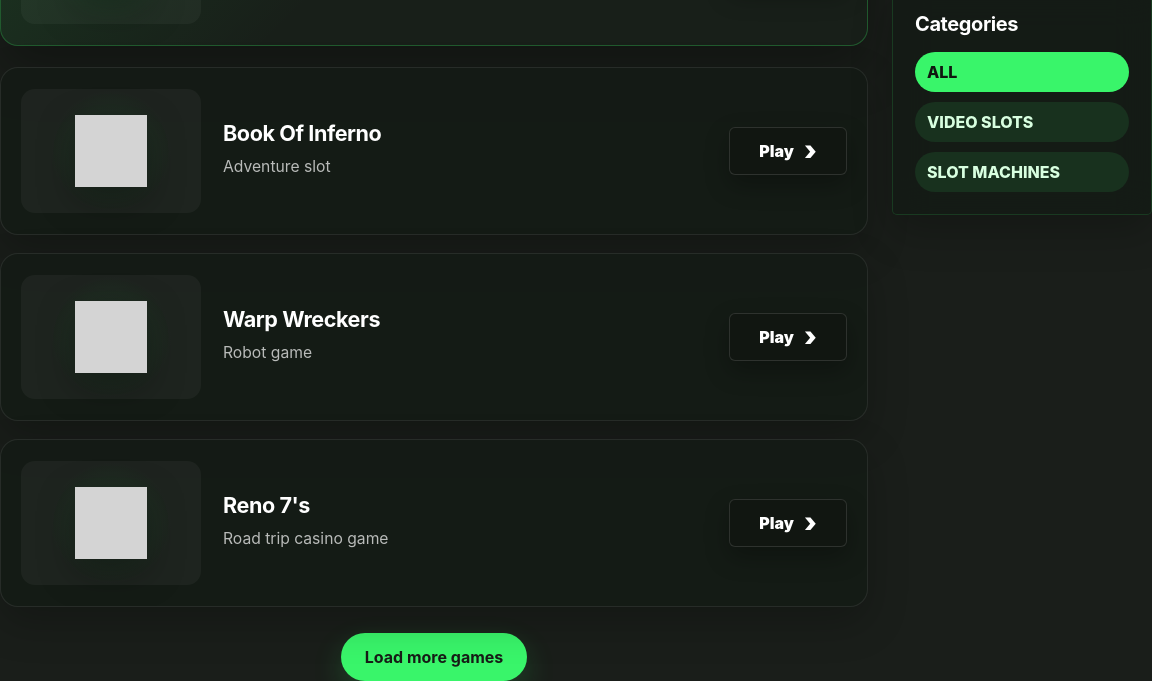
it: GamesPage › shows more games when load more is clicked
This screenshot has width=1152, height=681.
(page scrolled)
expect the heading "Book Of Inferno" is shown: met, box [223,120,381,146]
expect the heading "Warp Wreckers" is shown: met, box [223,306,380,332]
Click the button "Load more games" at (434, 657), box [341,633,527,680]
(page scrolled)
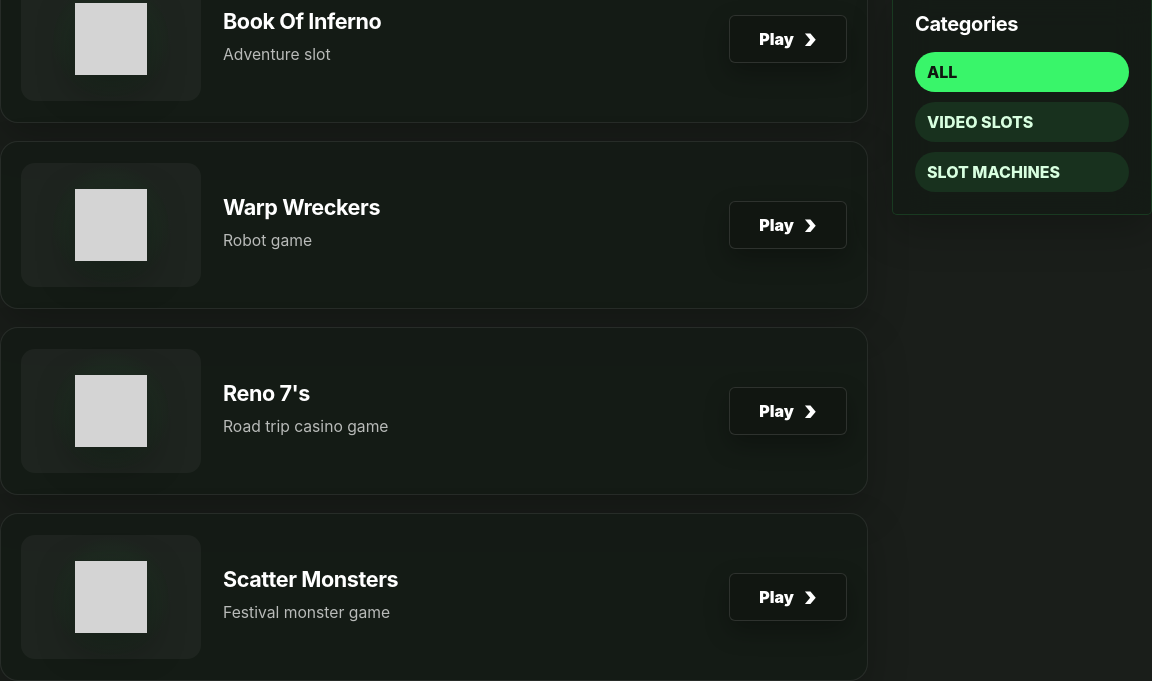
expect the heading "Scatter Monsters" is shown: met, box [223,566,398,592]
